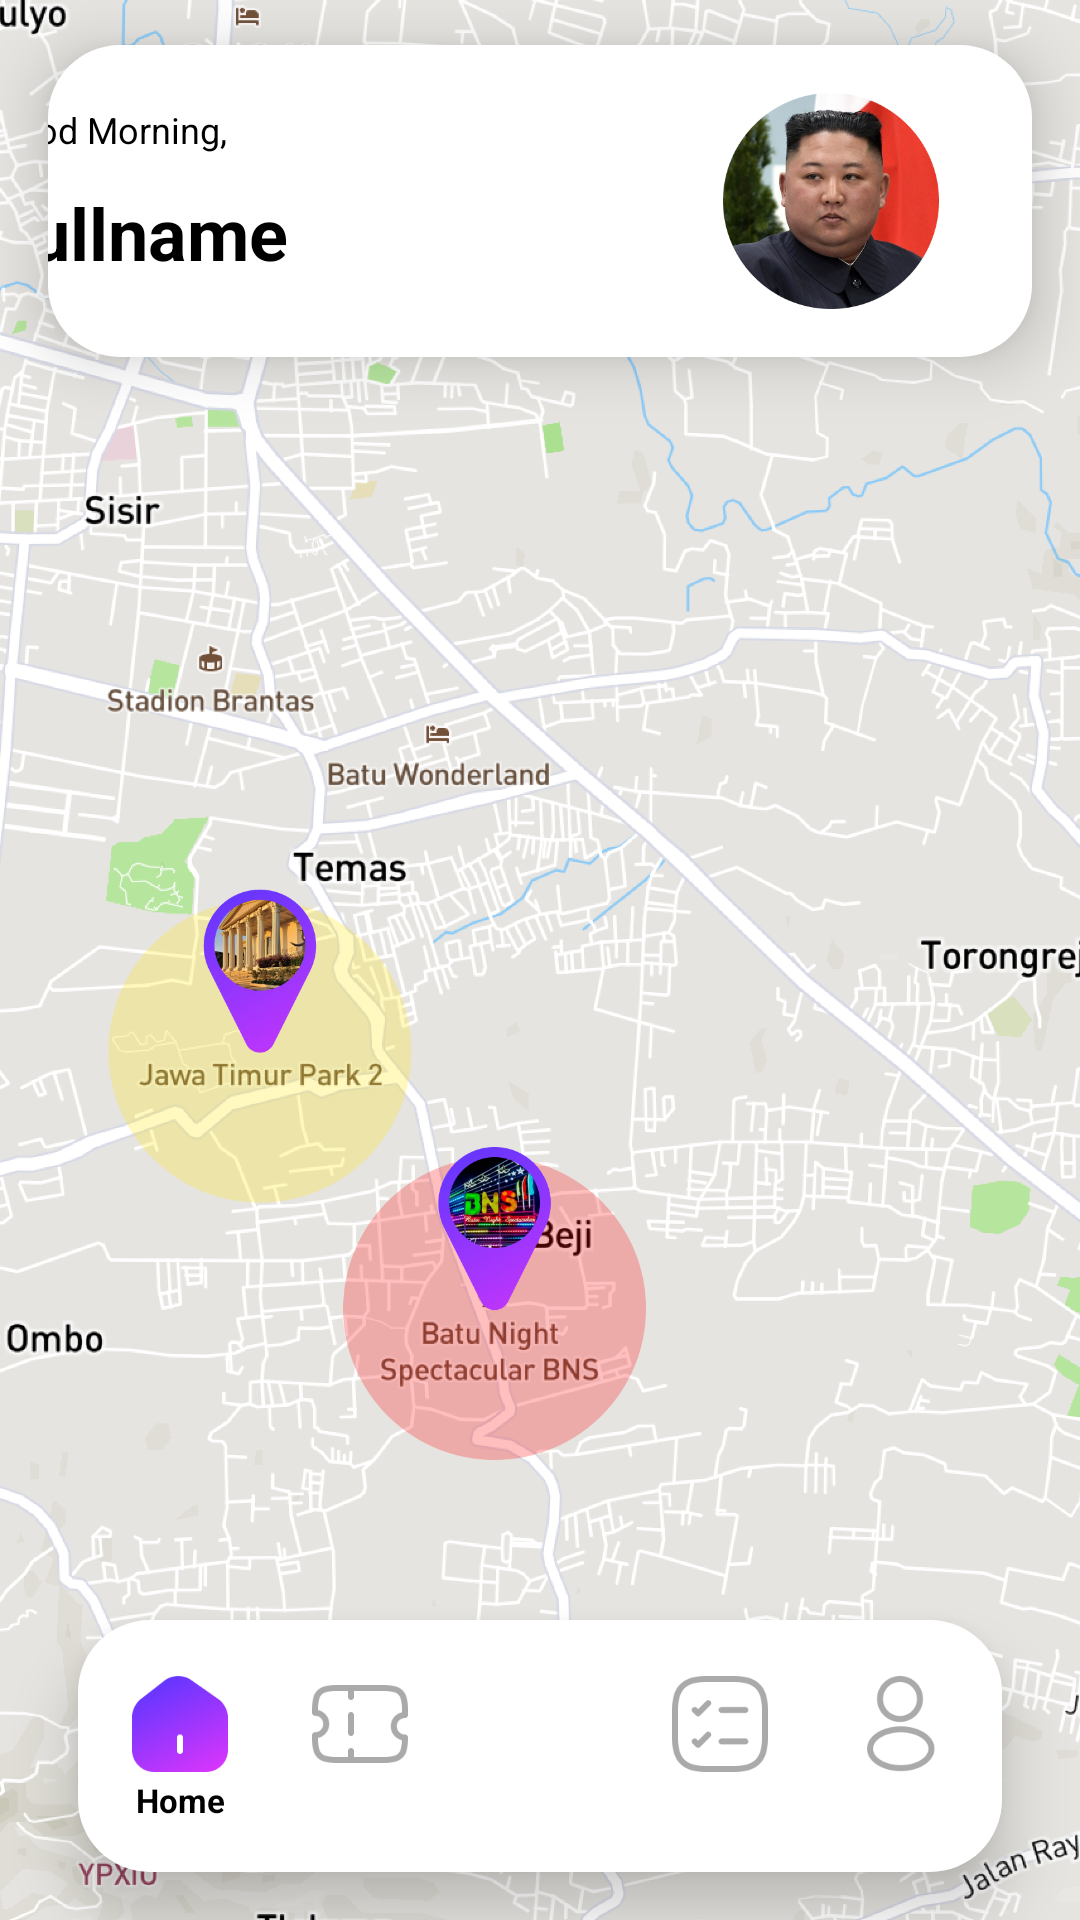

Icon click points for this 1080 × 1920 phone screenshot, format (x,y):
history: (720,1724)
profile: (831,201), (901,1723)
ticket: (360,1724)
